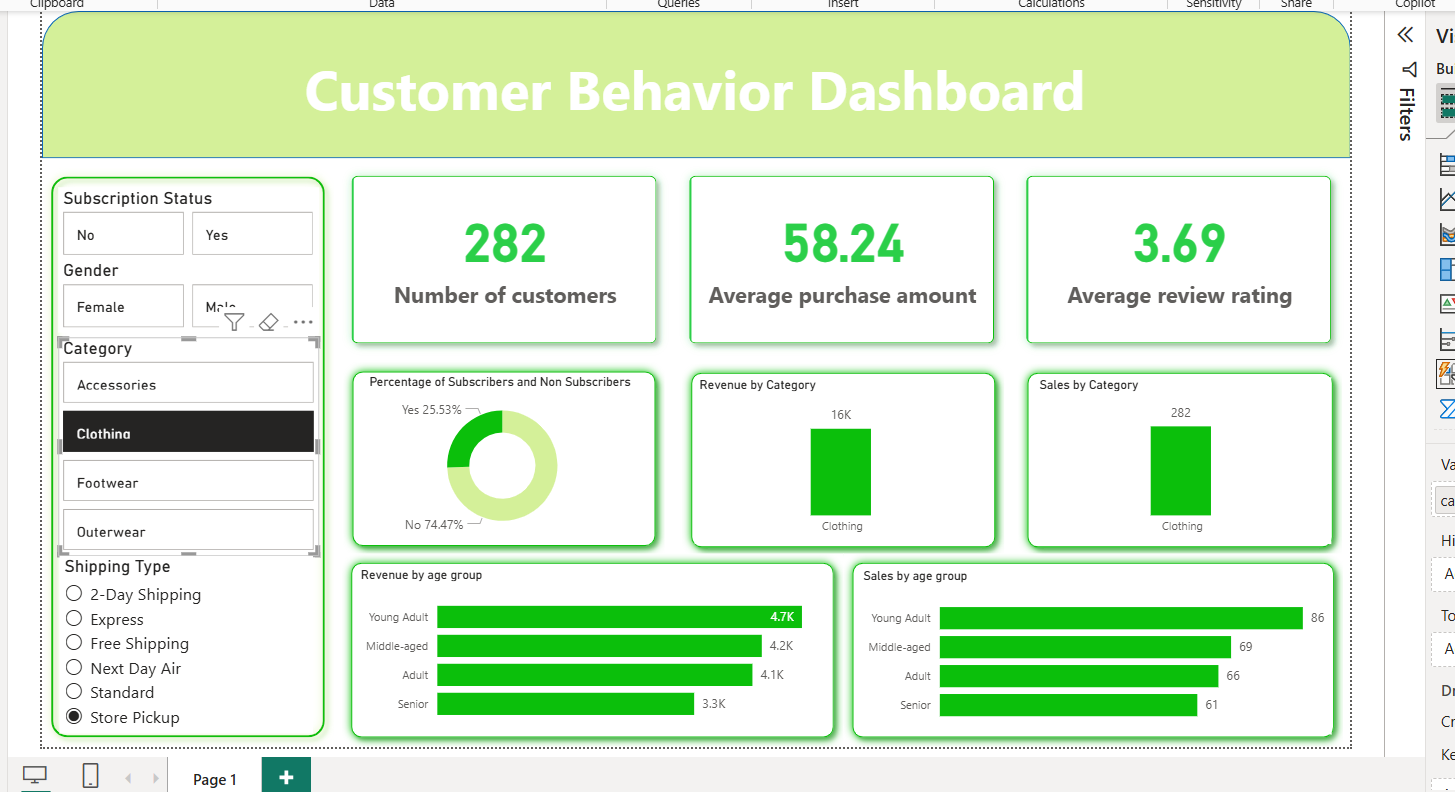

The dashboard page shown, as its layout file describes it:
{"tool":"powerbi","page":{"name":"Page 1","canvas":[1280,720],"ordinal":0},"visuals":[{"type":"cardVisual","fields":{"Data":["public customer.Number of customers","public customer.Average purchase amount","public customer.Average review rating"]},"box":[286,144.2,994.2,198.8],"z":0},{"type":"shape","box":[0,0,1280.2,144.2],"z":1000},{"type":"textbox","box":[141.9,33.7,994.2,81.4],"z":2000},{"type":"shape","box":[294.4,343.3,314.4,188.9],"z":3000},{"type":"shape","box":[625.6,344.4,315.6,188.9],"z":4000},{"type":"shape","box":[955.6,344.4,316.7,188.9],"z":5000},{"type":"donutChart","title":"Percentage of Subscribers and Non Subscribers","fields":{"Category":["public customer.subscription_status"],"Y":["CountNonNull(public customer.customer_id)"]},"box":[316,356,270,164.7],"z":6000},{"type":"clusteredColumnChart","title":"Revenue by Category","fields":{"Category":["public customer.category"],"Y":["Sum(public customer.purchase_amount)"]},"box":[638.9,357.8,290,163.3],"z":7000},{"type":"clusteredColumnChart","title":"Sales by Category","fields":{"Category":["public customer.category"],"Y":["CountNonNull(public customer.customer_id)"]},"box":[971.1,357.8,290,163.3],"z":8000},{"type":"shape","box":[0,153.3,285.6,566.7],"z":9000},{"type":"advancedSlicerVisual","title":"Subscription Status","fields":{"Values":["public customer.subscription_status"]},"box":[16.2,172.5,255,71.2],"z":10000},{"type":"advancedSlicerVisual","title":"Gender","fields":{"Values":["public customer.gender"]},"box":[16.2,243.8,255,71.2],"z":11000},{"type":"advancedSlicerVisual","title":"Category","fields":{"Values":["public customer.category"]},"box":[16.2,318.8,255,215],"z":12000},{"type":"listSlicer","title":"Shipping Type","fields":{"Values":["public customer.shipping_type"]},"box":[16.7,533.3,247.8,173.3],"z":13000},{"type":"shape","box":[784,531,489,189],"z":14000},{"type":"shape","box":[294,531,490,189],"z":15000},{"type":"barChart","title":"Revenue by age group","fields":{"Category":["public customer.age_group"],"Y":["Sum(public customer.purchase_amount)"]},"box":[307,544,463,162],"z":17000},{"type":"barChart","title":"Sales by age group","fields":{"Category":["public customer.age_group"],"Y":["CountNonNull(public customer.customer_id)"]},"box":[798,545,463,162],"z":17001}]}

Visuals, with their boxes on the page's 1280x720 design canvas (x1, y1, x2, y2). These are canvas units, not pixel positions in the 1455x792 screenshot, which may show the page scaled, cropped or inside an application window:
cardVisual - public customer.Number of customers x public customer.Average purchase amount: locate(286, 144, 1280, 343)
shape: locate(0, 0, 1280, 144)
textbox: locate(142, 34, 1136, 115)
shape: locate(294, 343, 609, 532)
shape: locate(626, 344, 941, 533)
shape: locate(956, 344, 1272, 533)
"Percentage of Subscribers and Non Subscribers" donutChart: locate(316, 356, 586, 521)
"Revenue by Category" clusteredColumnChart: locate(639, 358, 929, 521)
"Sales by Category" clusteredColumnChart: locate(971, 358, 1261, 521)
shape: locate(0, 153, 286, 720)
"Subscription Status" advancedSlicerVisual: locate(16, 172, 271, 244)
"Gender" advancedSlicerVisual: locate(16, 244, 271, 315)
"Category" advancedSlicerVisual: locate(16, 319, 271, 534)
"Shipping Type" listSlicer: locate(17, 533, 264, 707)
shape: locate(784, 531, 1273, 720)
shape: locate(294, 531, 784, 720)
"Revenue by age group" barChart: locate(307, 544, 770, 706)
"Sales by age group" barChart: locate(798, 545, 1261, 707)
